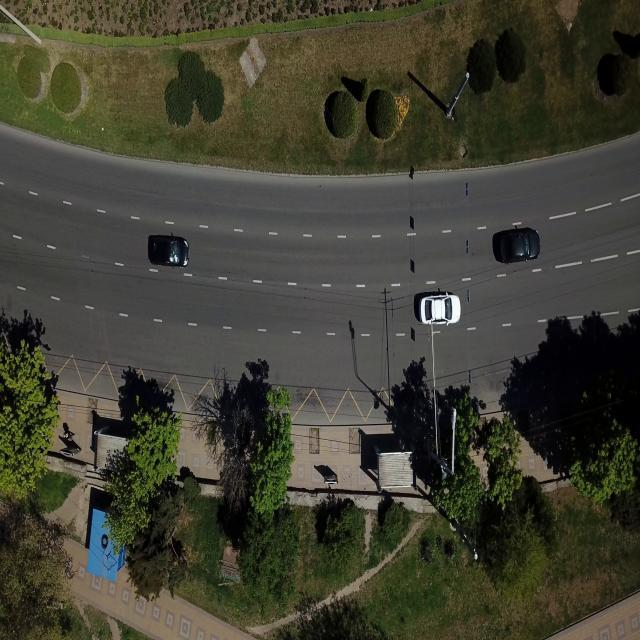vehicle: (494, 228, 540, 264), (148, 235, 189, 268), (419, 293, 461, 325)
